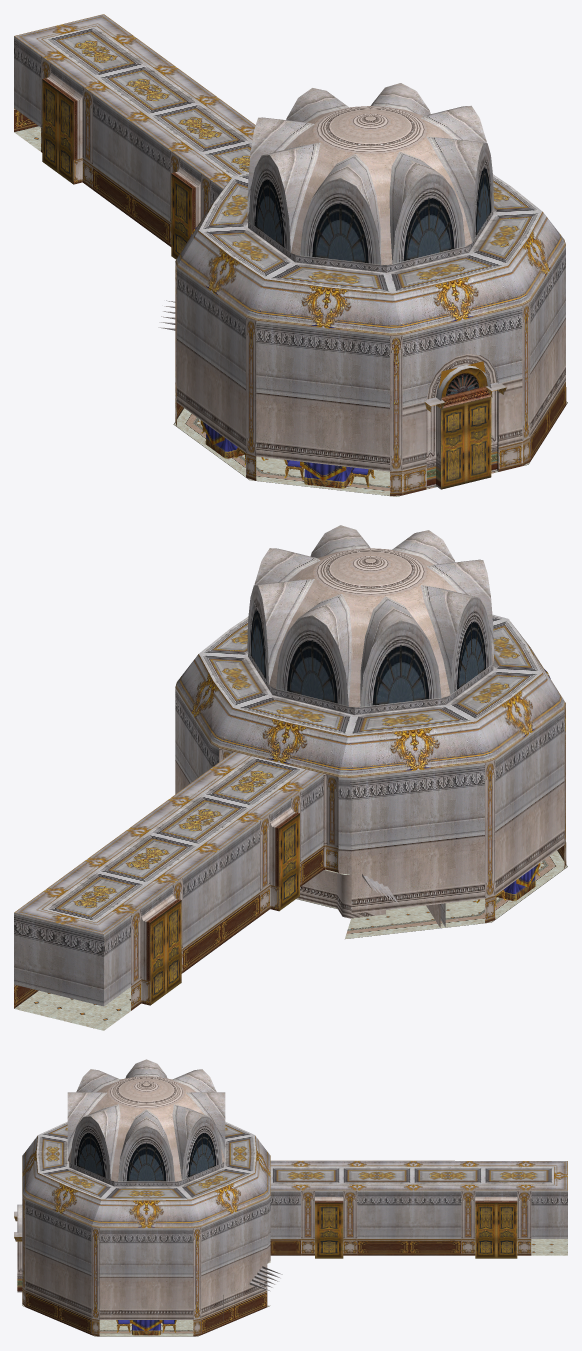
3 views of the same model, one above another, from view 1: azimuth 30°, elevation 25°; view 2: azimuth 150°, elevation 25°; view 3: azimuth 270°, elevation 25° (orthographic). The views are drawn at different scales.
Parts seen in each view (by area): view 1: rd_rh-col; view 2: rd_rh-col; view 3: rd_rh-col.
Part boxes in pixels (x1,y1,x2,y2): rd_rh-col: (14, 14, 567, 496); rd_rh-col: (14, 525, 567, 1030); rd_rh-col: (14, 1059, 567, 1336).
Bounding box in the file's own units: 13.27 × 11.97 × 29.57.
15 materials, 15 textured.
